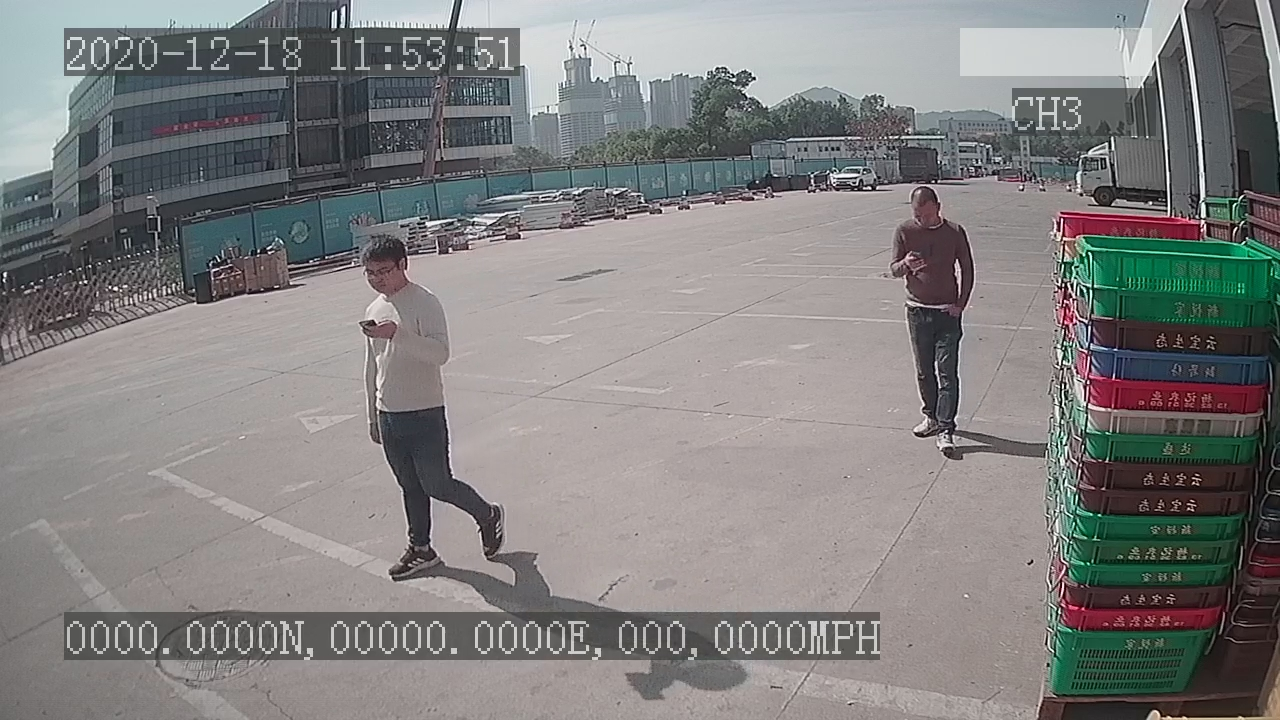person: (347, 231, 513, 585), (879, 181, 981, 469)
